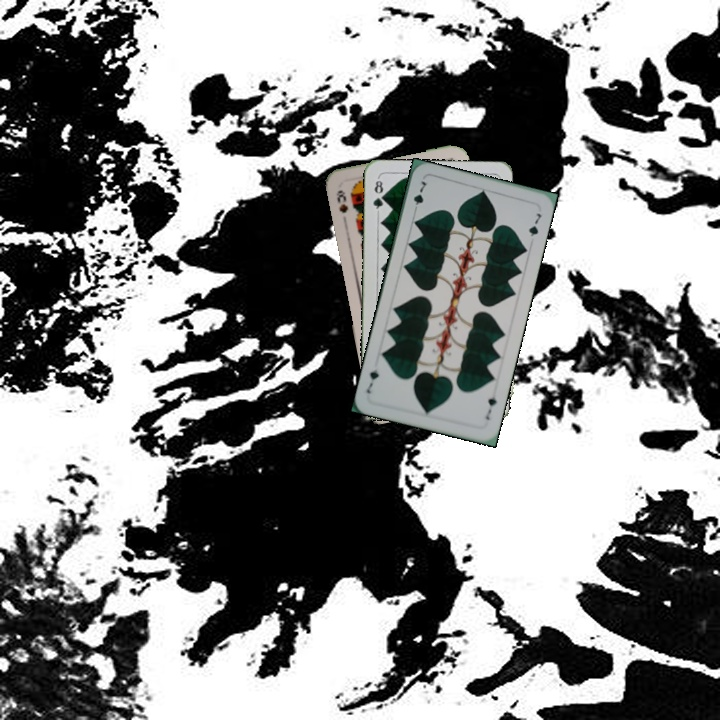G7: (409, 177, 429, 216), (481, 393, 499, 422)
G8: (369, 174, 387, 215)
S8: (332, 186, 351, 216)
